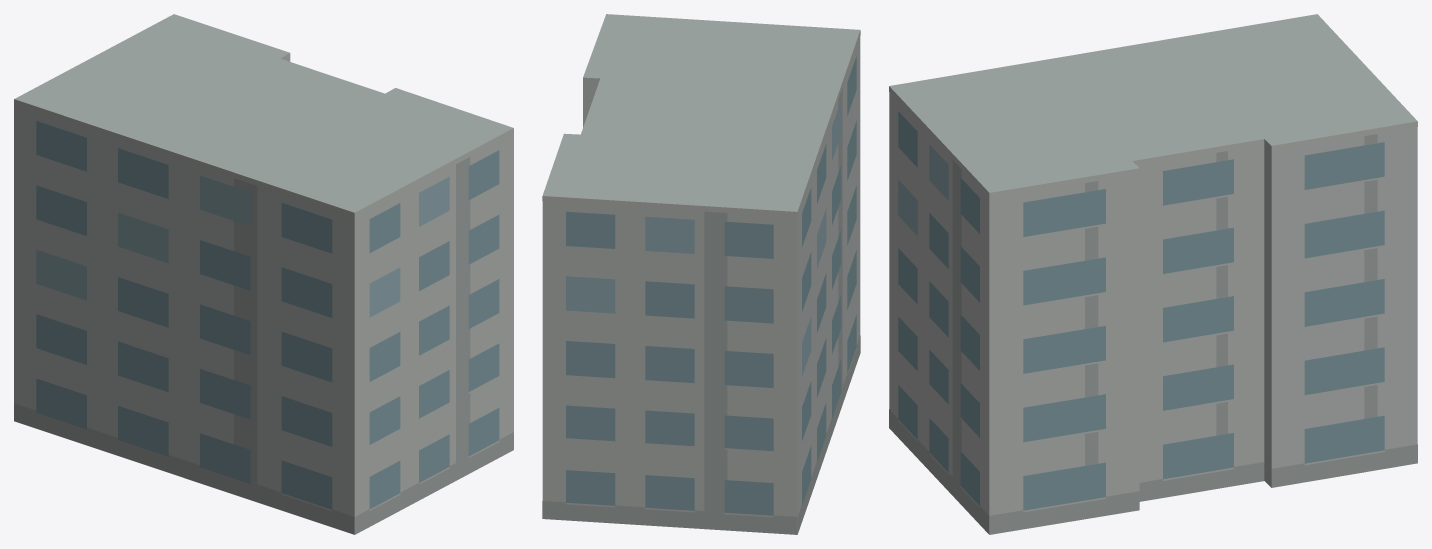
Rendered from survey-upis-32890857.glb.
3 renders of one model, left to right at view 1: azimuth 30°, elevation 25°; view 2: azimuth 150°, elevation 25°; view 3: azimuth 270°, elevation 25°, orthographic. The views are drawn at different scales.
Parts seen in each view (by area): view 1: survey-upis-32890857.tmp; view 2: survey-upis-32890857.tmp; view 3: survey-upis-32890857.tmp.
Part boxes in pixels (left/top/right/bottom): survey-upis-32890857.tmp: left=14, top=14, right=513, bottom=534; survey-upis-32890857.tmp: left=542, top=14, right=860, bottom=534; survey-upis-32890857.tmp: left=889, top=14, right=1417, bottom=534.
Size of the model in its own units: 16.05 by 14.3 by 20.05.
